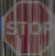Stop: (5, 4, 54, 53)
